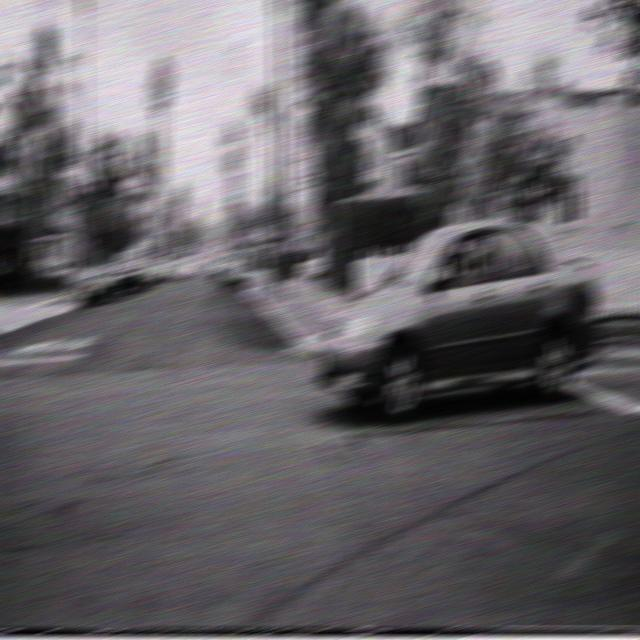speedLimit25: (293, 149, 319, 196)
